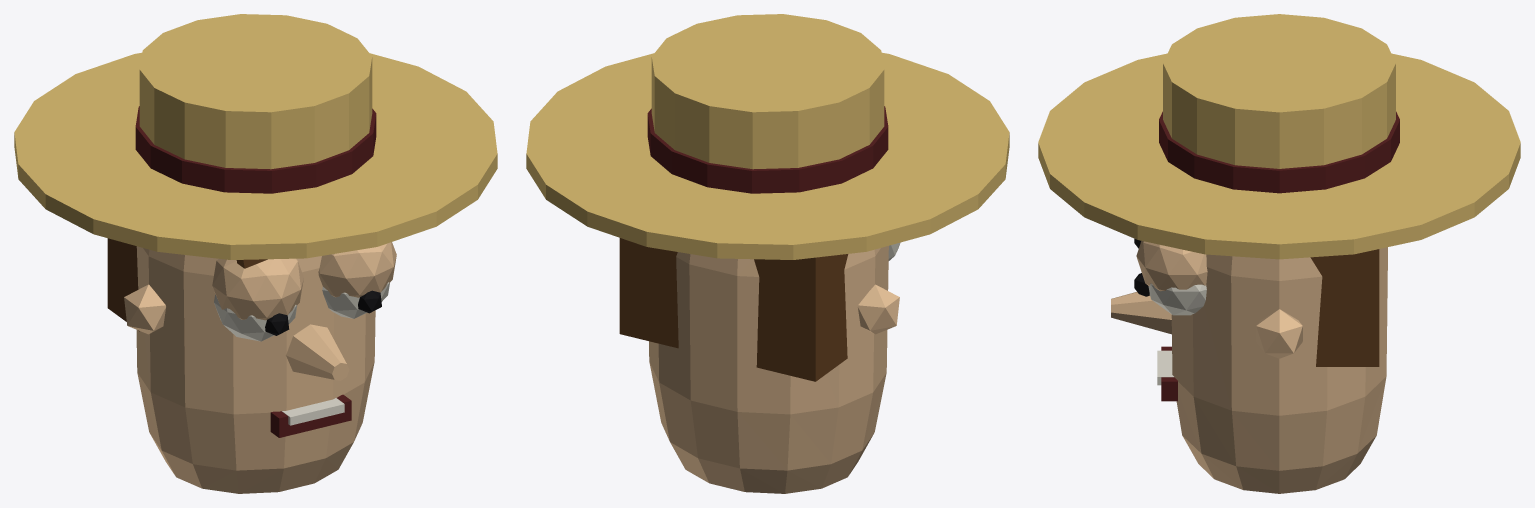
Rendered from PersonHelper1Head.obj.
The picture shows the model from 3 angles, left to right: view 1: azimuth 30°, elevation 25°; view 2: azimuth 150°, elevation 25°; view 3: azimuth 270°, elevation 25°; orthographic projection.
Visible parts, largest first — view 1: PersonHelper1Head; view 2: PersonHelper1Head; view 3: PersonHelper1Head.
Part boxes in pixels (bbox=[...]): PersonHelper1Head: bbox=[14, 14, 497, 493]; PersonHelper1Head: bbox=[526, 14, 1009, 493]; PersonHelper1Head: bbox=[1038, 14, 1520, 493].
Bounding box in the file's own units: 0.58 × 0.52 × 0.58.
